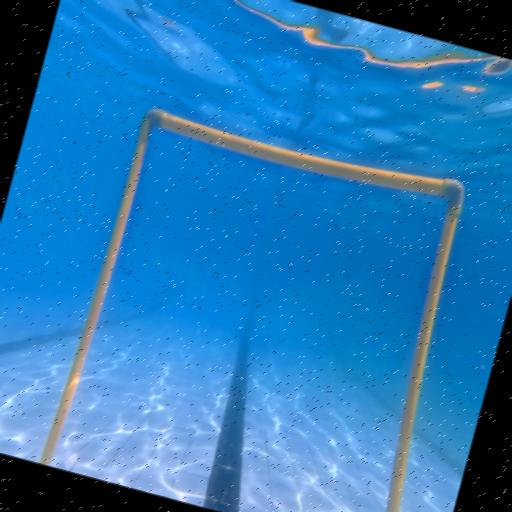gate: (37, 92, 491, 512)
